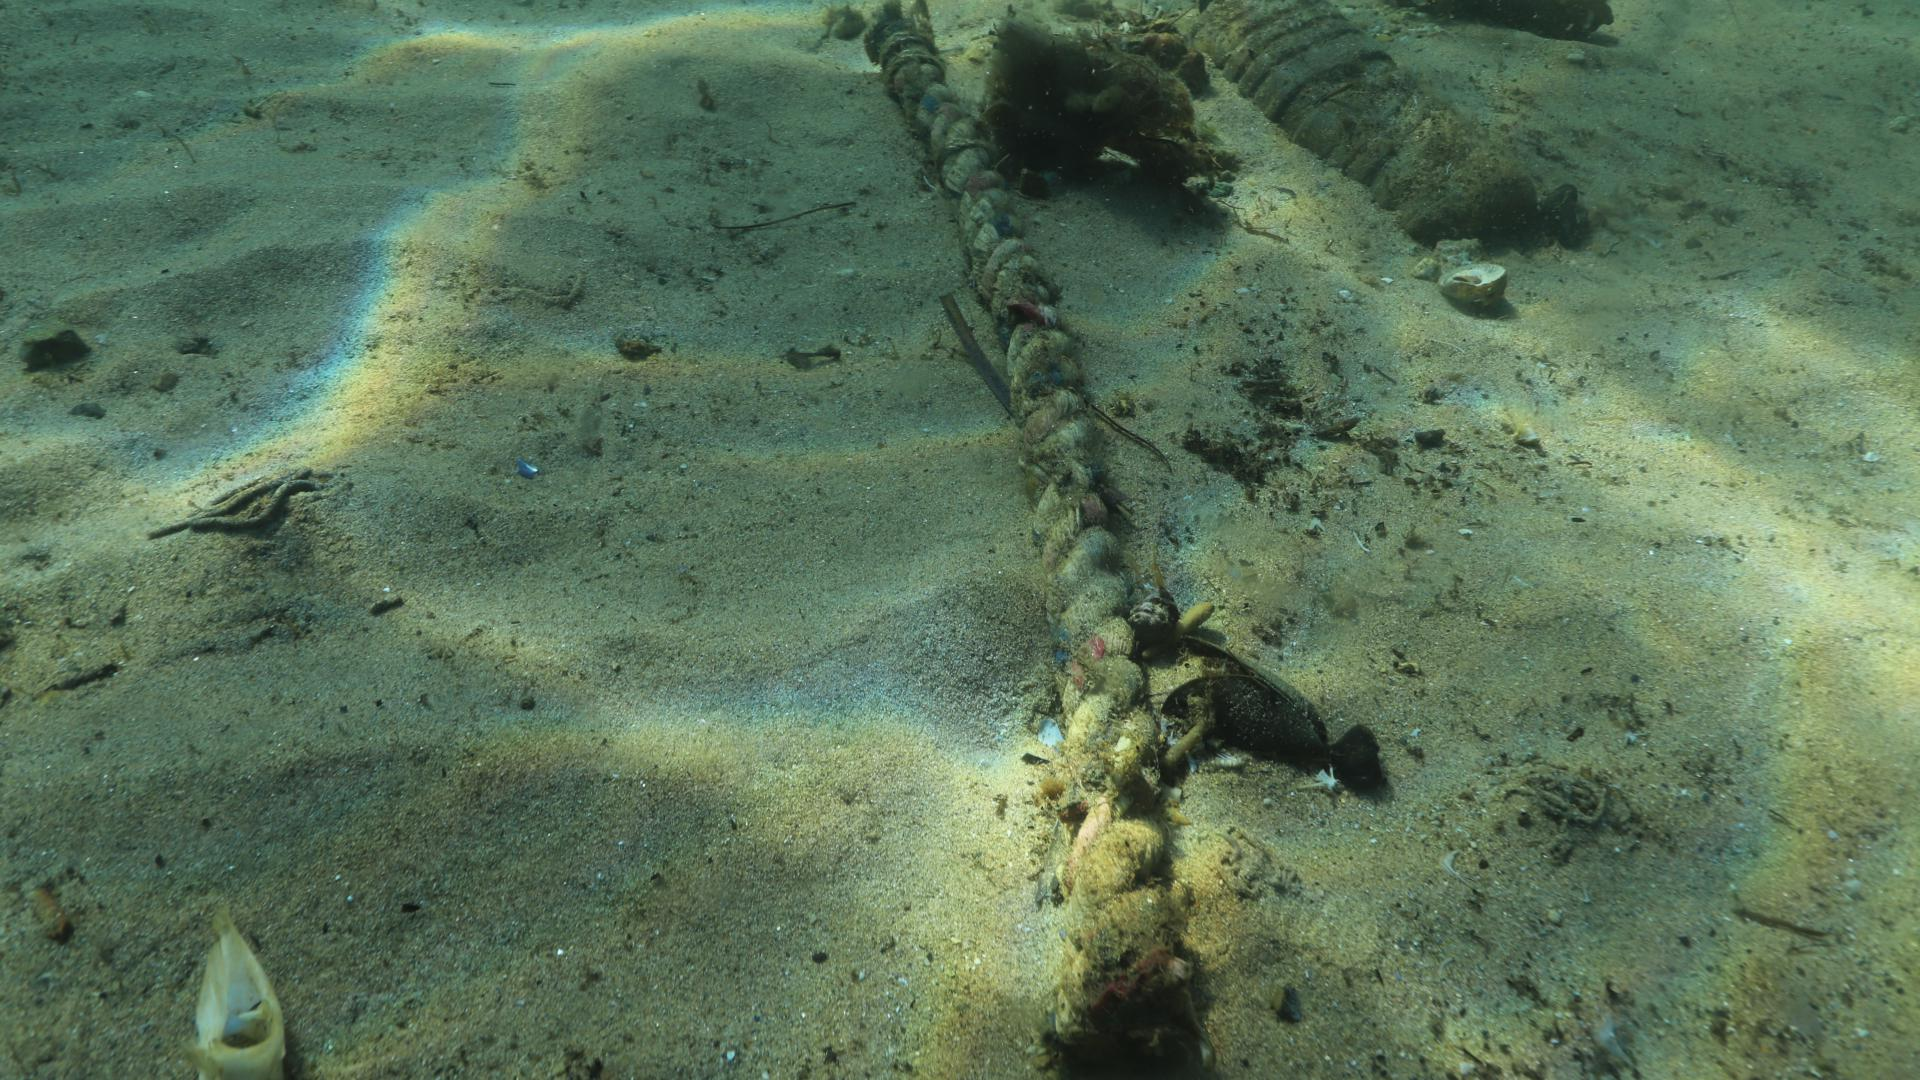rope: (866, 0, 1174, 905)
